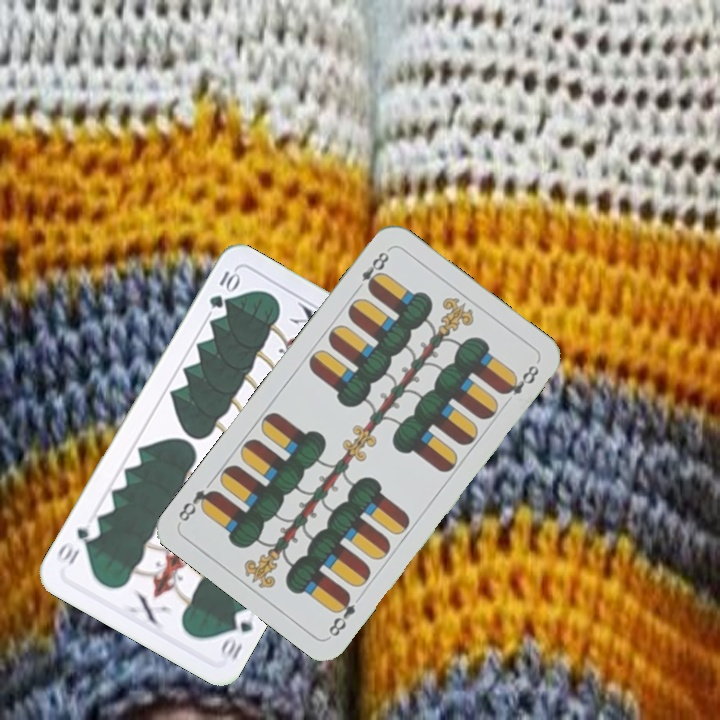E8: (351, 247, 392, 295), (324, 589, 358, 640)
G10: (216, 605, 256, 663), (205, 267, 242, 311)
